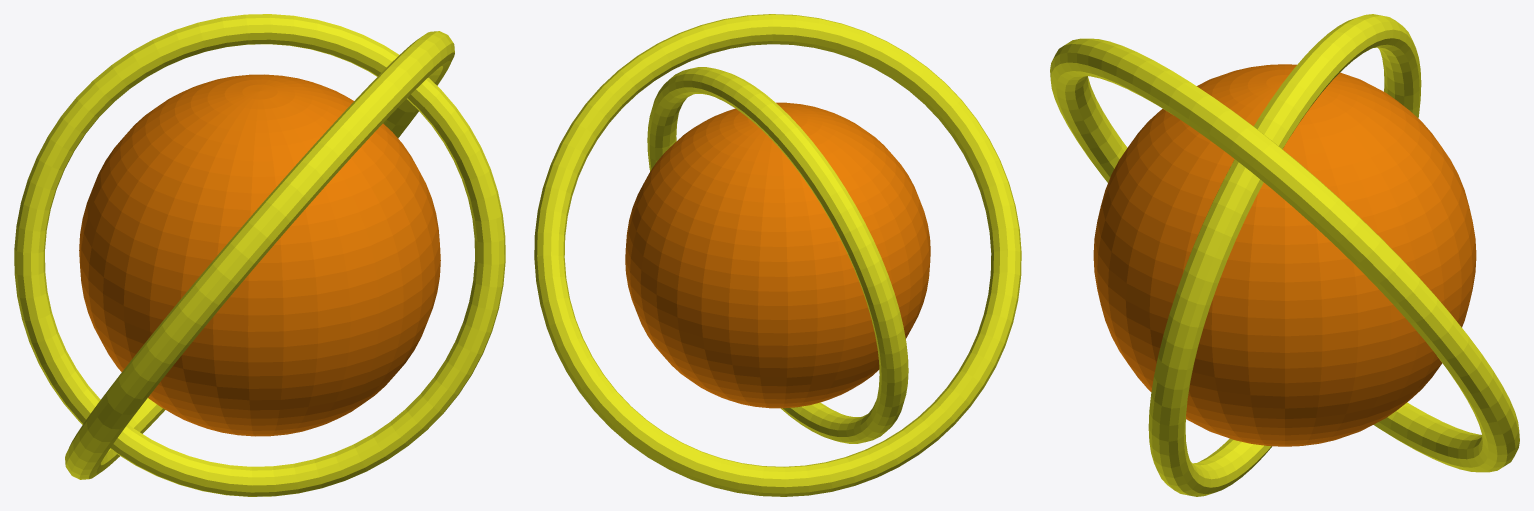
The model's file is power_orb.fbx.
The picture shows the model from 3 angles, left to right: view 1: azimuth 30°, elevation 25°; view 2: azimuth 150°, elevation 25°; view 3: azimuth 270°, elevation 25°; orthographic projection. The views are drawn at different scales.
Parts seen in each view (by area): view 1: Sphere, Z Ring, X Ring; view 2: Sphere, X Ring, Z Ring; view 3: Sphere, X Ring, Z Ring.
Boxes of the visible parts, x1,y1,x2,y2 form: Sphere: (79, 74, 440, 436); Z Ring: (14, 14, 505, 496); X Ring: (65, 31, 454, 479); Sphere: (625, 102, 930, 408); X Ring: (534, 14, 1021, 496); Z Ring: (647, 67, 908, 443); Sphere: (1093, 64, 1476, 446); X Ring: (1050, 38, 1519, 472); Z Ring: (1148, 14, 1421, 496).
Bounding box in the file's own units: 280 × 267 × 245.
